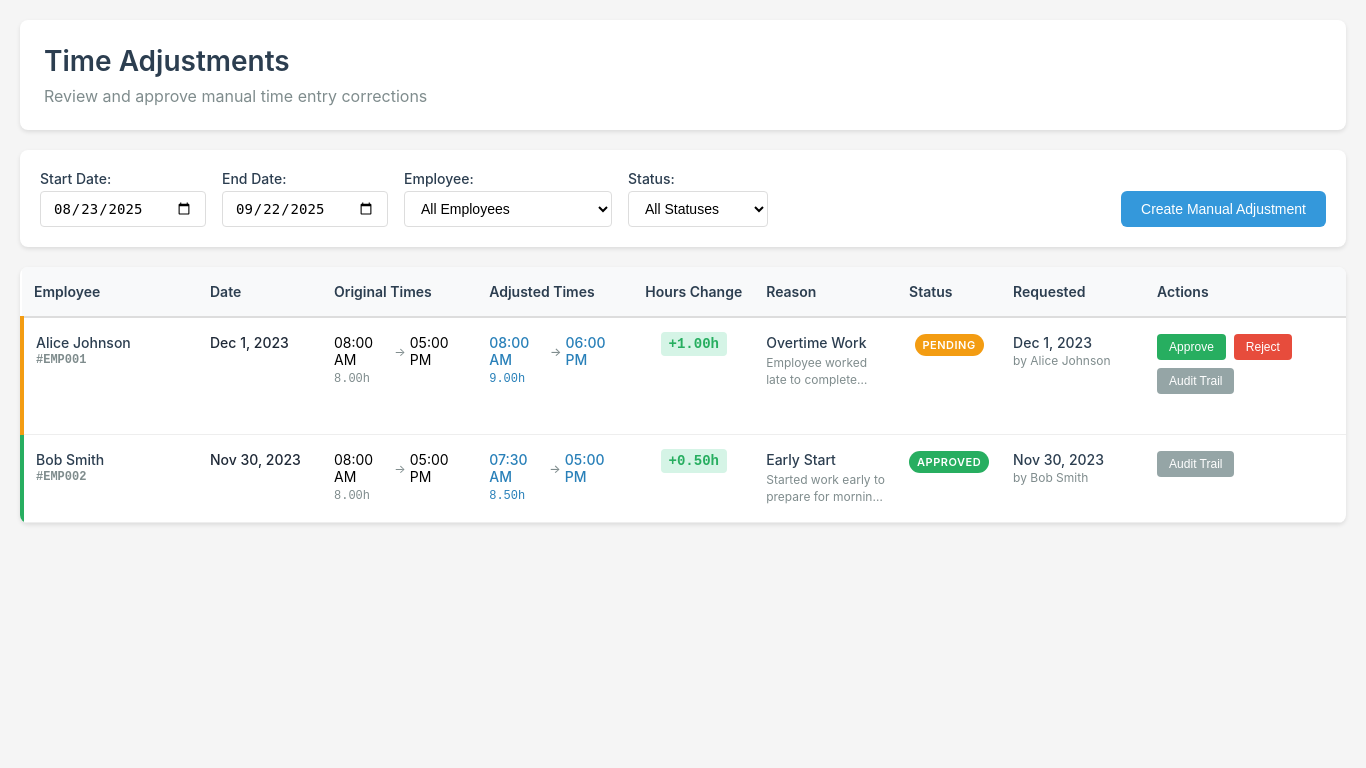
Test case: TimeAdjustments Integration › shows rejection modal for pending adjustments
Click the button "Reject" at [1263, 347], box [1234, 334, 1292, 360]
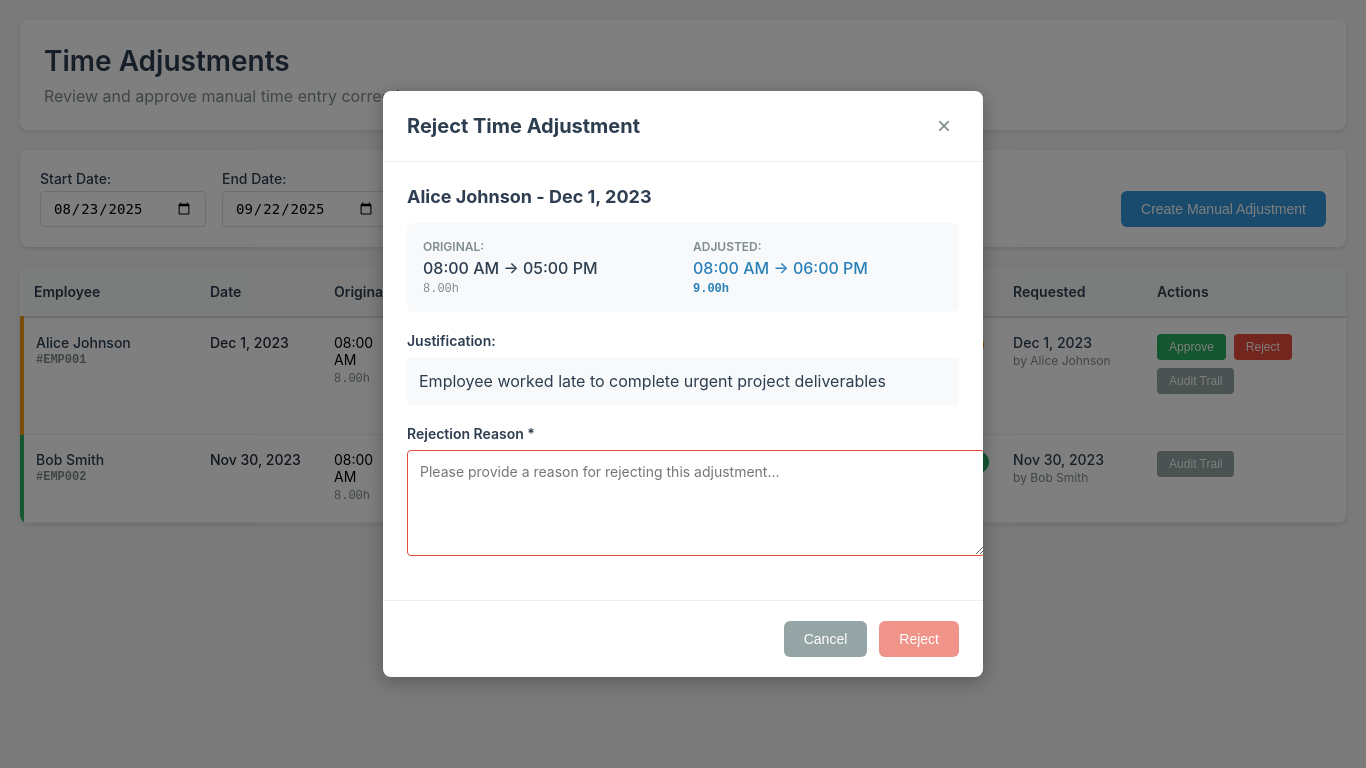
Check: the text box labelled "Rejection Reason *" is shown, box [407, 450, 983, 556]
